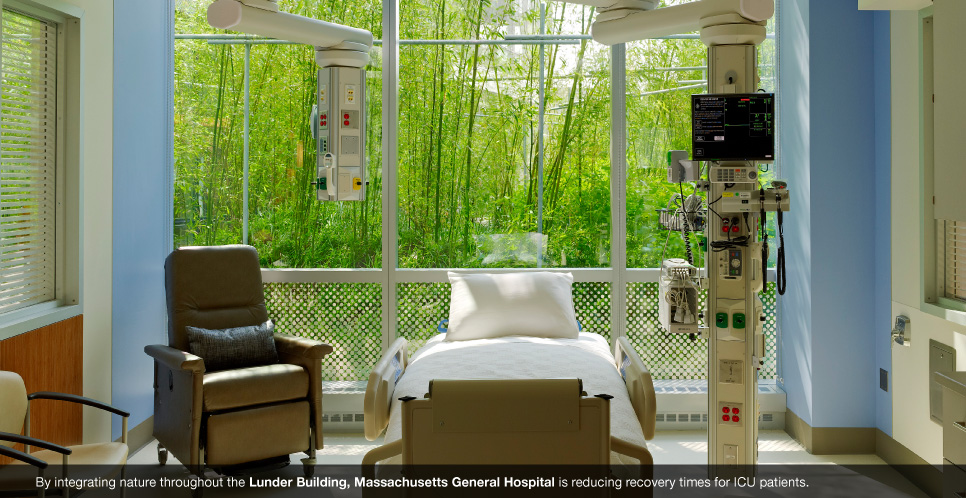bedrail: (614, 336, 659, 437), (364, 336, 406, 439)
bedside_monitor: (689, 89, 779, 163)
chair: (1, 367, 134, 498)
foot_board: (397, 378, 611, 498)
handle: (947, 418, 966, 434)
hospital_bed: (364, 269, 659, 498)
medical_drawer: (926, 367, 966, 498)
sofa: (144, 246, 331, 485)
